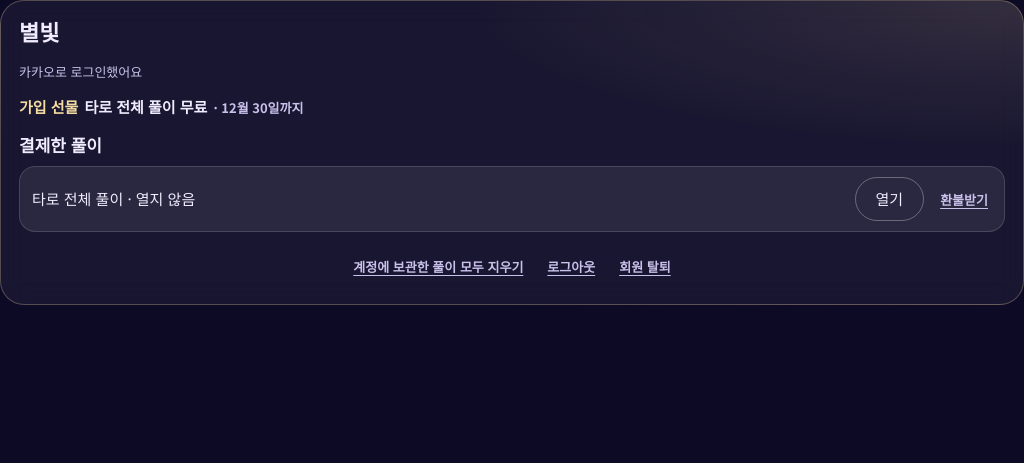
Test: AccountPanel › logs out and takes the account's readings off this device; readings opened here stay
Click the button "로그아웃" at (571, 266), box [543,244,599,288]
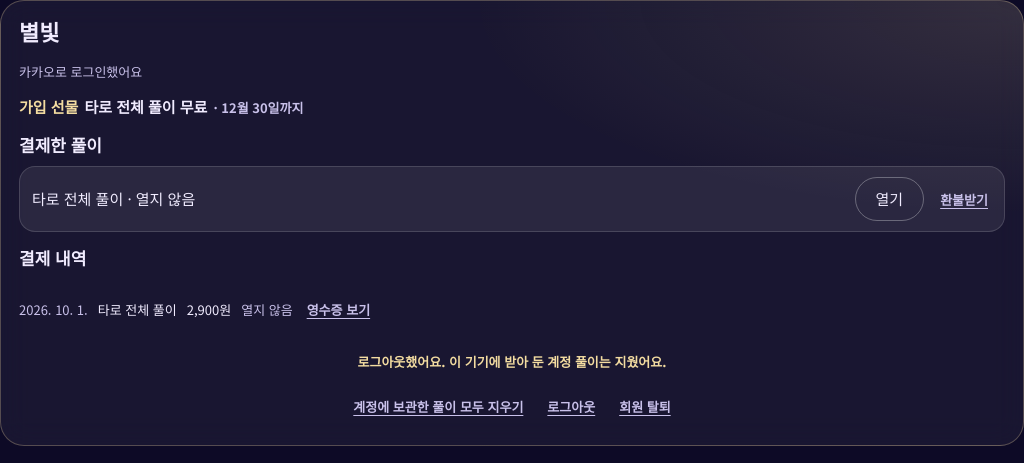
Now the text "로그아웃했어요. 이 기기에 받아 둔 계정 풀이는 지웠어요." is shown, box [358,352,666,371]
